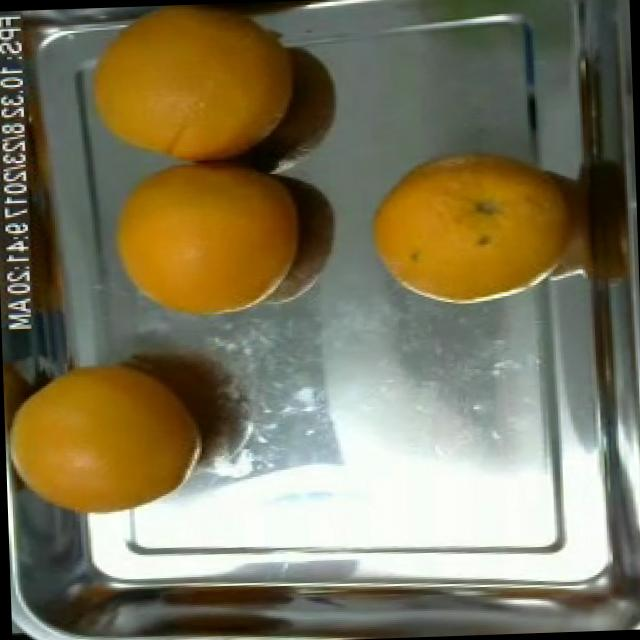Fruit: (86, 132, 320, 336), (1, 334, 216, 531), (354, 138, 554, 321)
